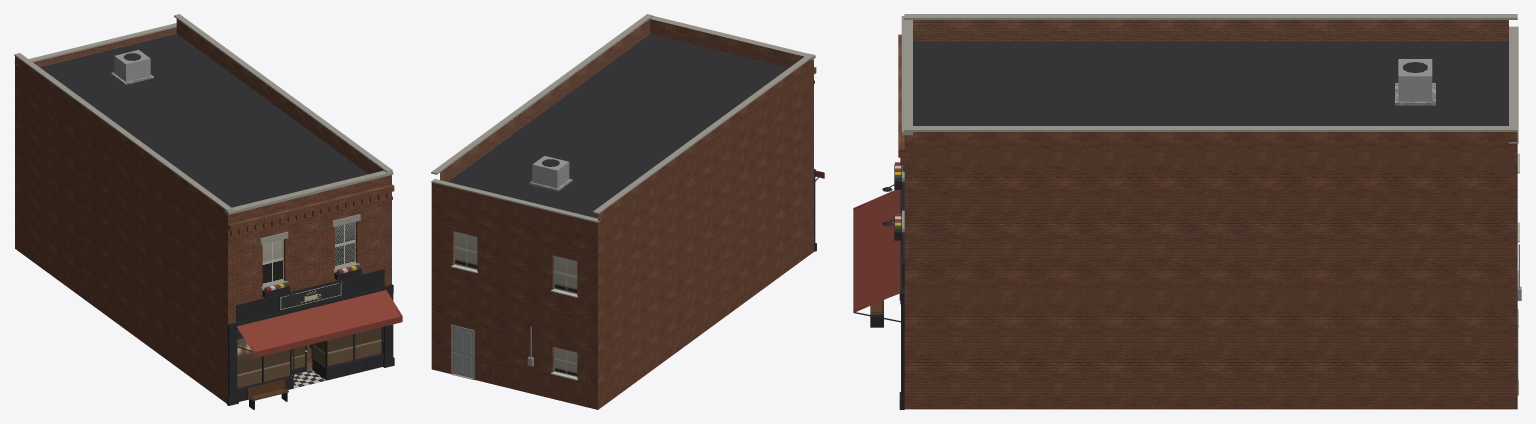
Rendered from town_shop_b.gltf.
The picture shows the model from 3 angles, left to right: view 1: azimuth 30°, elevation 25°; view 2: azimuth 150°, elevation 25°; view 3: azimuth 270°, elevation 25°; orthographic projection. The views are drawn at different scales.
Parts seen in each view (by area): view 1: TownShopB_Walls, TownShopB_RoofDeck, TownShopB_Awning, TownShopB_Window, TownShopB_Coping, TownShopB_ParapetIn, TownShopB_Cornice, TownShopB_Iron, TownShopB_SignBand, TownShopB_Bulkheads, TownShopB_HVAC, TownShopB_Sign (+5 smaller); view 2: TownShopB_Walls, TownShopB_RoofDeck, TownShopB_ParapetIn, TownShopB_Coping, TownShopB_Window, TownShopB_HVAC, TownShopB_ClosedDoor, TownShopB_Trim; view 3: TownShopB_Walls, TownShopB_RoofDeck, TownShopB_ParapetIn, TownShopB_Coping, TownShopB_Awning, TownShopB_HVAC, TownShopB_Iron, TownShopB_Cornice.
Boxes of the visible parts, x1,y1,x2,y2 form: TownShopB_Walls: (15, 56, 391, 403); TownShopB_RoofDeck: (40, 34, 367, 207); TownShopB_Awning: (237, 290, 402, 358); TownShopB_Window: (237, 222, 381, 388); TownShopB_Coping: (14, 14, 393, 214); TownShopB_ParapetIn: (33, 19, 383, 174); TownShopB_Cornice: (228, 184, 394, 239); TownShopB_Iron: (227, 284, 394, 405); TownShopB_SignBand: (236, 269, 384, 322); TownShopB_Bulkheads: (237, 354, 383, 401); TownShopB_HVAC: (111, 50, 153, 84); TownShopB_Sign: (280, 283, 341, 309); TownShopB_Walls: (431, 58, 813, 409); TownShopB_RoofDeck: (448, 34, 788, 218); TownShopB_ParapetIn: (440, 19, 803, 181); TownShopB_Coping: (431, 14, 815, 222); TownShopB_Window: (454, 231, 577, 376); TownShopB_HVAC: (529, 156, 572, 191); TownShopB_ClosedDoor: (453, 327, 472, 378); TownShopB_Trim: (451, 264, 577, 380); TownShopB_Walls: (904, 132, 1517, 409); TownShopB_RoofDeck: (913, 41, 1508, 125); TownShopB_ParapetIn: (913, 20, 1508, 41); TownShopB_Coping: (901, 14, 1518, 143); TownShopB_Awning: (853, 190, 900, 312); TownShopB_HVAC: (1395, 59, 1435, 105); TownShopB_Iron: (899, 182, 904, 409); TownShopB_Cornice: (898, 34, 904, 171).
Size of what is drawn, in the model's own units: 8.1 by 9.21 by 19.62.
2 materials, 2 textured.
